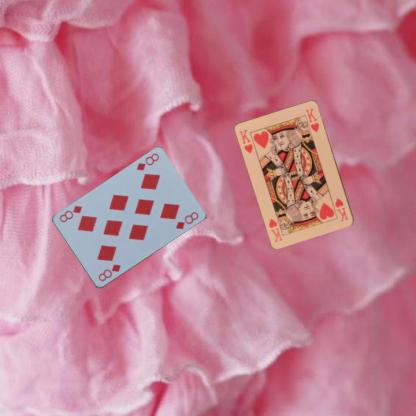8d: (134, 151, 160, 172), (95, 262, 122, 282)
Kh: (332, 195, 350, 223), (237, 126, 254, 155)
